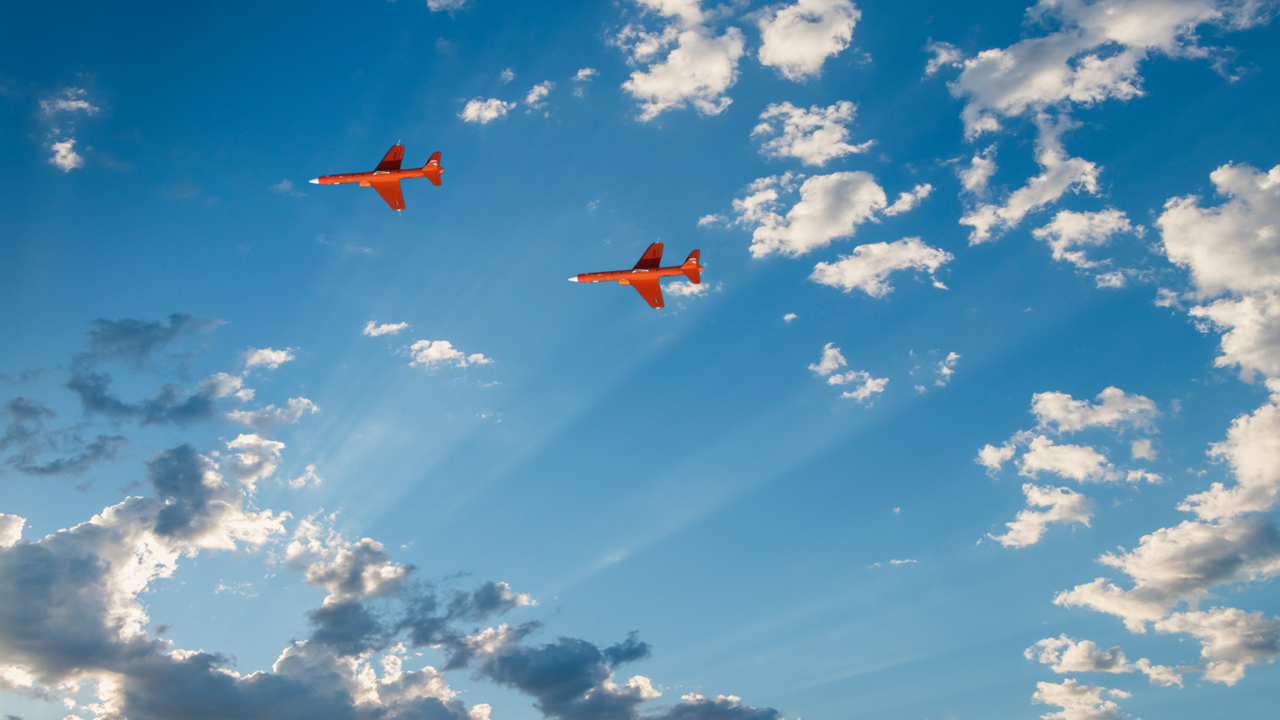military drone: (567, 236, 703, 313), (308, 138, 444, 215)
